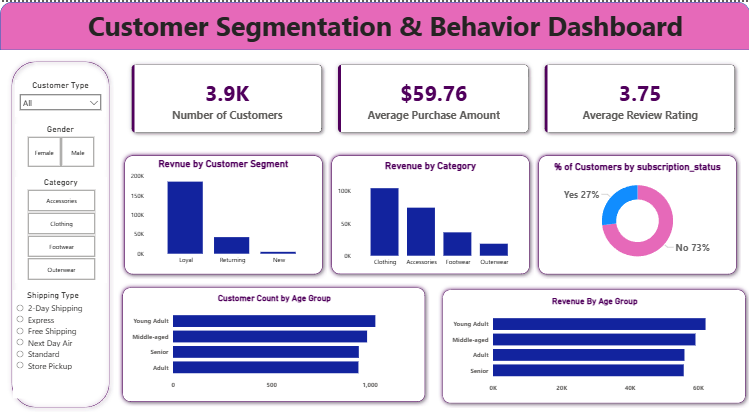

The dashboard page shown, as its layout file describes it:
{"tool":"powerbi","page":{"name":"Dashboard","canvas":[1500,820],"ordinal":0},"visuals":[{"type":"cardVisual","fields":{"Data":["Measure_List.Number of Customers","Measure_List.Average Purchase Amount","Measure_List.Average Review Rating"]},"box":[233.9,96.4,1266.1,194.6],"z":0},{"type":"shape","box":[0,0,1500,96.4],"z":1000},{"type":"textbox","box":[108,4,1326,86],"z":2000},{"type":"shape","box":[1068.6,298.6,414.3,255.7],"z":3000},{"type":"donutChart","title":"% of Customers by subscription_status","fields":{"Category":["customer_behaviour.subscription_status"],"Y":["CountNonNull(customer_behaviour.customer_id)"]},"box":[1090,317.1,370,217.1],"z":4000},{"type":"shape","box":[653.6,298.5,414.3,255.4],"z":5000},{"type":"shape","box":[240,297.1,414.3,255.7],"z":6000},{"type":"clusteredColumnChart","title":"Revenue by Category","fields":{"Y":["Sum(customer_behaviour.purchase_amount)"],"Category":["customer_behaviour.category"]},"box":[669.6,316.1,382.1,221.4],"z":7000},{"type":"clusteredColumnChart","title":"Revnue by Customer Segment","fields":{"Category":["customer_behaviour.Customer Segment"],"Y":["Sum(customer_behaviour.purchase_amount)"]},"box":[255.7,312.9,381.4,221.4],"z":8000},{"type":"shape","box":[14,110,214,710],"z":9000},{"type":"slicer","title":"Customer Type","fields":{"Values":["customer_behaviour.Customer Segment"]},"box":[30,156,182,74],"z":10000},{"type":"slicer","title":"Gender","fields":{"Values":["customer_behaviour.gender"]},"box":[30,244,182,92],"z":11000},{"type":"slicer","title":"Category","fields":{"Values":["customer_behaviour.category"]},"box":[30,350,184,212],"z":12000},{"type":"listSlicer","title":"Shipping Type","fields":{"Values":["customer_behaviour.shipping_type"]},"box":[26.7,575,160,216.7],"z":13000},{"type":"shape","box":[236.7,561.7,623.3,246.7],"z":14000},{"type":"shape","box":[875.7,565.7,624.3,245.7],"z":16000},{"type":"clusteredBarChart","title":"Revenue By Age Group","fields":{"Y":["Sum(customer_behaviour.purchase_amount)"],"Category":["customer_behaviour.age_group"]},"box":[897.1,587.1,582.9,202.9],"z":16500},{"type":"clusteredBarChart","title":"Customer Count by Age Group","fields":{"Category":["customer_behaviour.age_group"],"Y":["CountNonNull(customer_behaviour.customer_id)"]},"box":[257.1,581.4,581.4,202.9],"z":17000}]}

Visuals, with their boxes in screenshot pixels (x1, y1, x2, y2), scaled from the page's 1500x820 canvas onto the 749x412 screenshot:
cardVisual - Measure_List.Number of Customers x Measure_List.Average Purchase Amount: <region>117, 48, 748, 146</region>
shape: <region>0, 0, 748, 48</region>
textbox: <region>54, 2, 716, 45</region>
shape: <region>534, 150, 740, 279</region>
"% of Customers by subscription_status" donutChart: <region>544, 159, 729, 268</region>
shape: <region>326, 150, 533, 278</region>
shape: <region>120, 149, 327, 278</region>
"Revenue by Category" clusteredColumnChart: <region>334, 159, 525, 270</region>
"Revnue by Customer Segment" clusteredColumnChart: <region>128, 157, 318, 268</region>
shape: <region>7, 55, 114, 411</region>
"Customer Type" slicer: <region>15, 78, 106, 116</region>
"Gender" slicer: <region>15, 123, 106, 169</region>
"Category" slicer: <region>15, 176, 107, 282</region>
"Shipping Type" listSlicer: <region>13, 289, 93, 398</region>
shape: <region>118, 282, 429, 406</region>
shape: <region>437, 284, 748, 408</region>
"Revenue By Age Group" clusteredBarChart: <region>448, 295, 739, 397</region>
"Customer Count by Age Group" clusteredBarChart: <region>128, 292, 419, 394</region>
